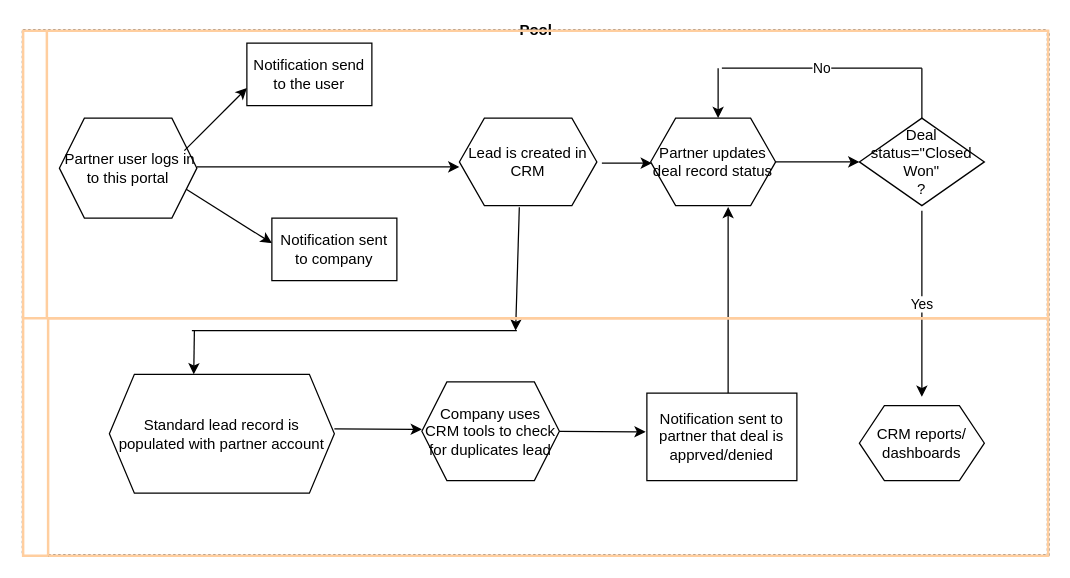
Some shapes in this 1070 by 578 pixel diagram are drawn without their labels. Each missing label, with the centre of its shape:
CRM: pixel 535 436
Partner Portal: pixel 535 174
